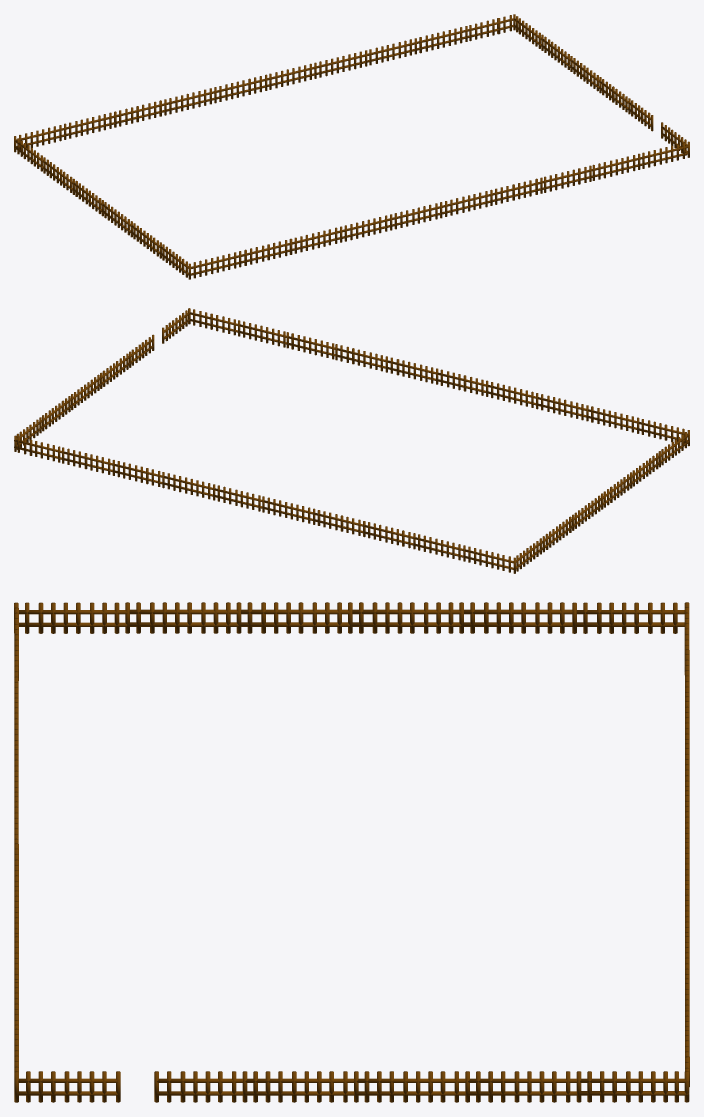
The model's file is CERCA DO JOGO completa.fbx.
3 views of the same model, one above another, from view 1: azimuth 30°, elevation 25°; view 2: azimuth 150°, elevation 25°; view 3: azimuth 270°, elevation 25° (orthographic). The views are drawn at different scales.
Visible parts, largest first — view 1: Cerca L.125; view 2: Cerca L.125; view 3: Cerca L.125.
Part boxes in pixels (left/top/right/bottom): Cerca L.125: left=14, top=14, right=689, bottom=275; Cerca L.125: left=14, top=308, right=689, bottom=573; Cerca L.125: left=14, top=602, right=689, bottom=1102.
Size of the model in its own units: 4903 by 143 by 2974.
